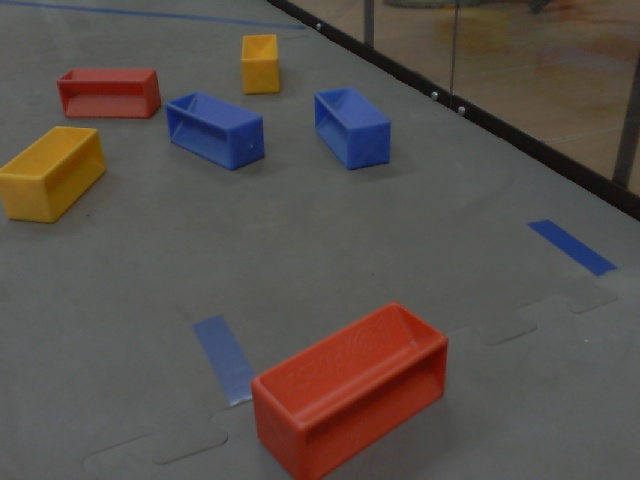BlueSample: (163, 91, 274, 172), (307, 85, 398, 173)
RedSample: (248, 298, 449, 478), (57, 68, 164, 120)
YellowSample: (2, 121, 112, 230), (238, 30, 285, 98)
